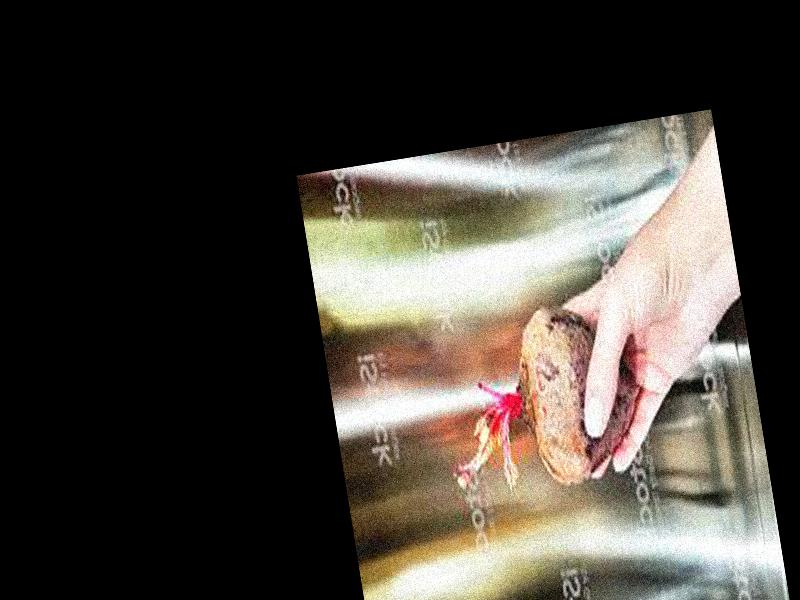Beet: (435, 297, 650, 502)
